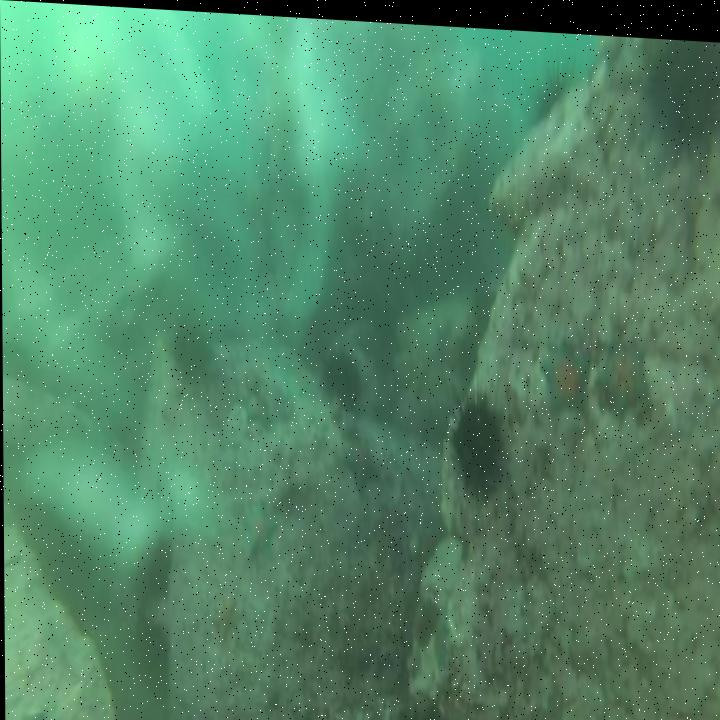echinus: (648, 30, 720, 156), (441, 370, 508, 502), (132, 616, 175, 705), (167, 315, 217, 389), (526, 53, 577, 123), (318, 344, 363, 408), (137, 532, 174, 607)
starfish: (597, 324, 653, 420), (538, 325, 593, 420), (333, 421, 383, 496), (240, 493, 280, 564), (237, 375, 274, 434), (206, 592, 241, 644)
